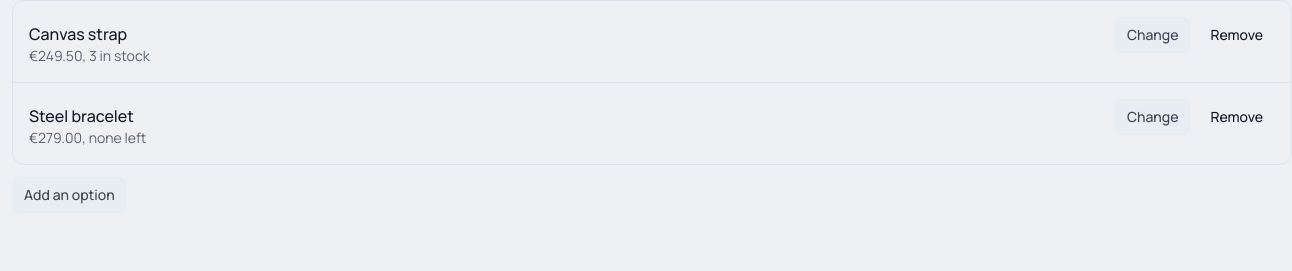
it: ListingVariants › shows the API's reason when the last option cannot be removed
Click the button "Remove" in the row of "3 in stock" at (1237, 35), box [1198,17,1275,53]
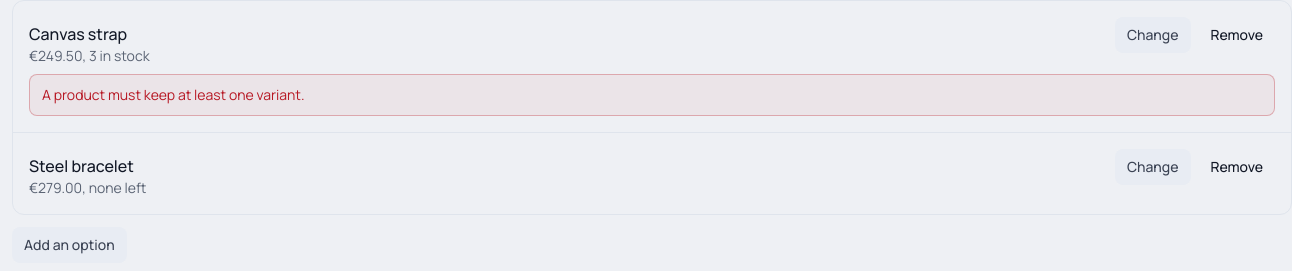
Result: the message reads "A product must keep at least one variant." at [42,85,304,104]
